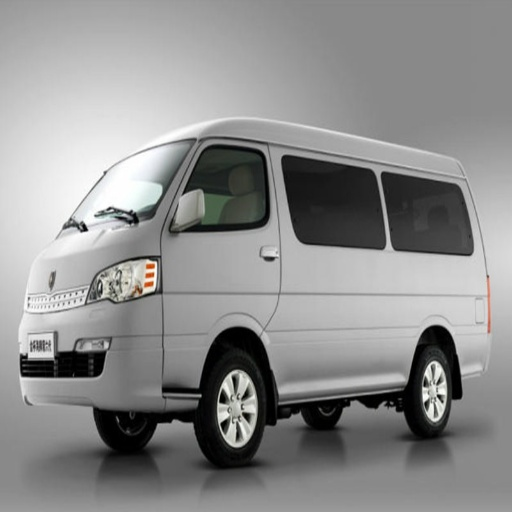front_bumper: (20, 298, 159, 410)
front_glass: (84, 143, 190, 222)
front_left_door: (163, 144, 277, 272)
trunk: (266, 253, 492, 398), (152, 327, 213, 397)
